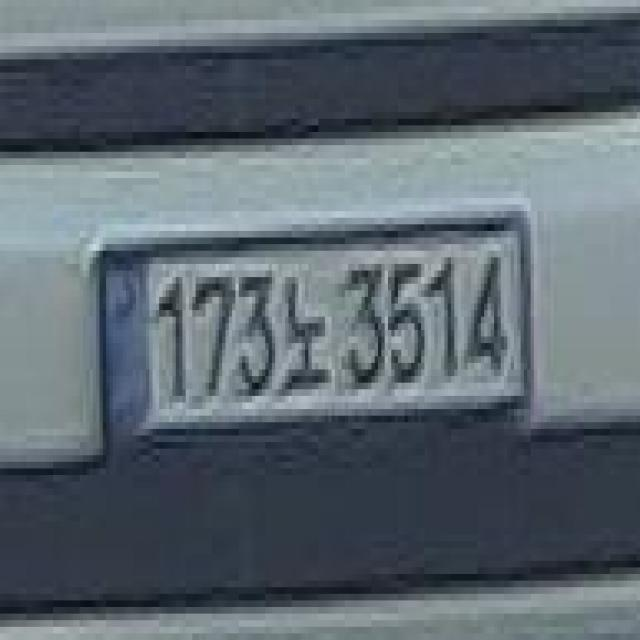illegal_plate: (91, 212, 528, 451)
